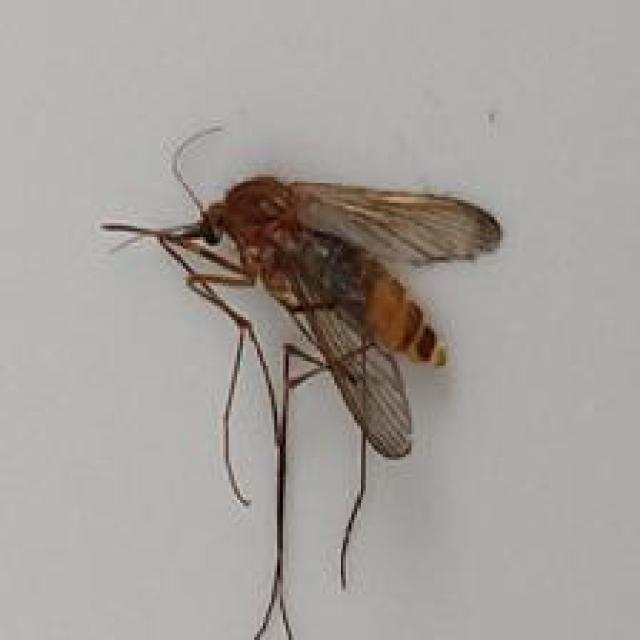Culex: (99, 123, 504, 640)
